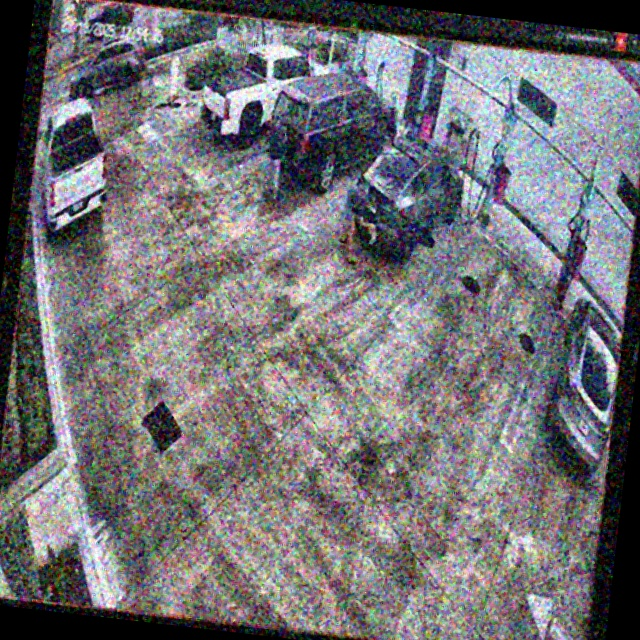Car: (264, 70, 401, 198), (352, 128, 467, 264)
